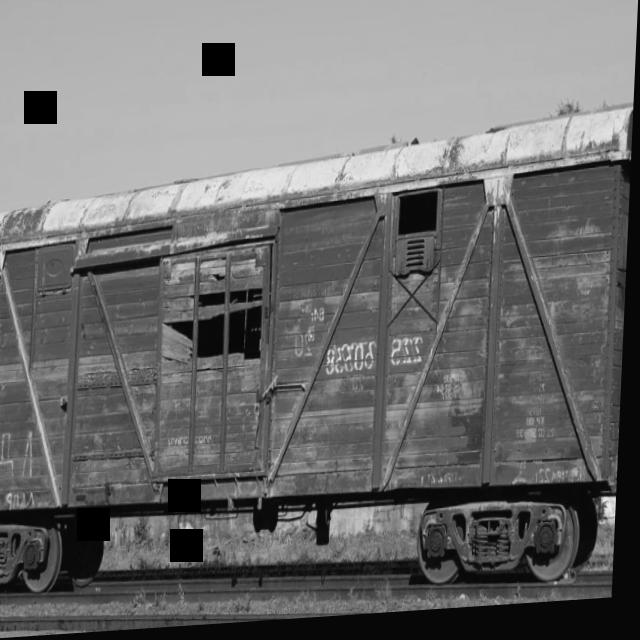boxcar: (0, 104, 635, 623)
